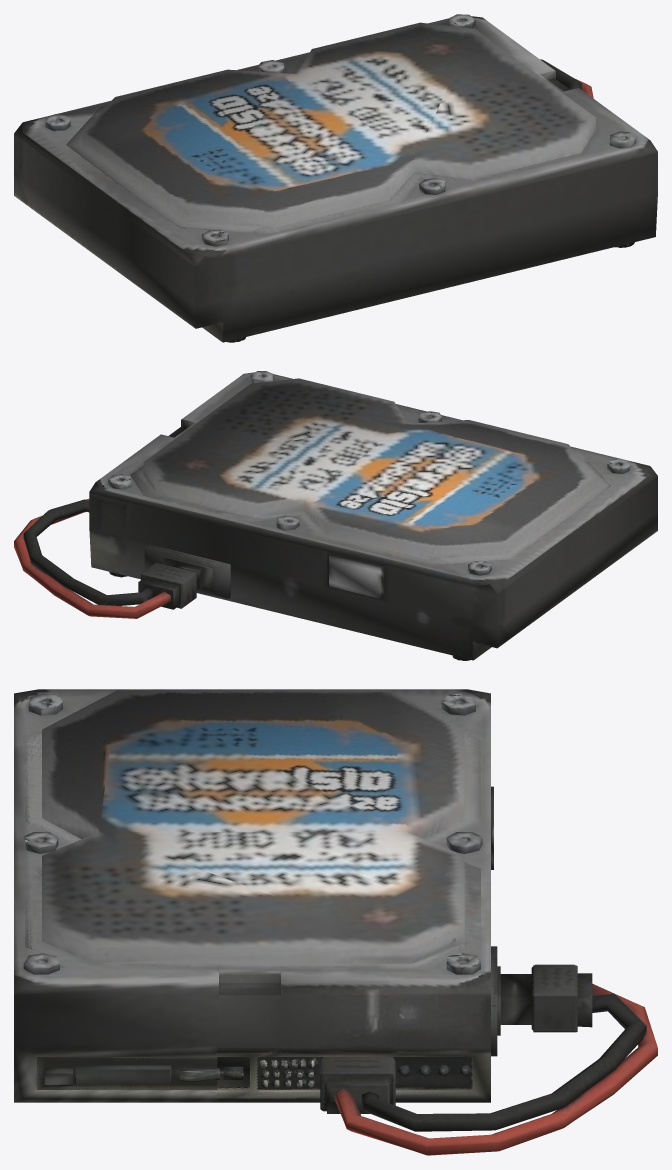
The model's file is 3d+hard+drive.glb.
3 renders of one model, top to bottom at view 1: azimuth 30°, elevation 25°; view 2: azimuth 150°, elevation 25°; view 3: azimuth 270°, elevation 25°, orthographic. The views are drawn at different scales.
Visible parts, largest first — view 1: tripo_node_36bcf828-d9f3-403c-973f-5a2fe9f48577; view 2: tripo_node_36bcf828-d9f3-403c-973f-5a2fe9f48577; view 3: tripo_node_36bcf828-d9f3-403c-973f-5a2fe9f48577.
Part boxes in pixels (<box>): tripo_node_36bcf828-d9f3-403c-973f-5a2fe9f48577: <box>14,14,657,342</box>; tripo_node_36bcf828-d9f3-403c-973f-5a2fe9f48577: <box>14,371,657,660</box>; tripo_node_36bcf828-d9f3-403c-973f-5a2fe9f48577: <box>14,689,657,1155</box>.
Size of the model in its own units: 0.998 by 0.1895 by 0.7676.
Materials: 1 (1 with a texture image).
